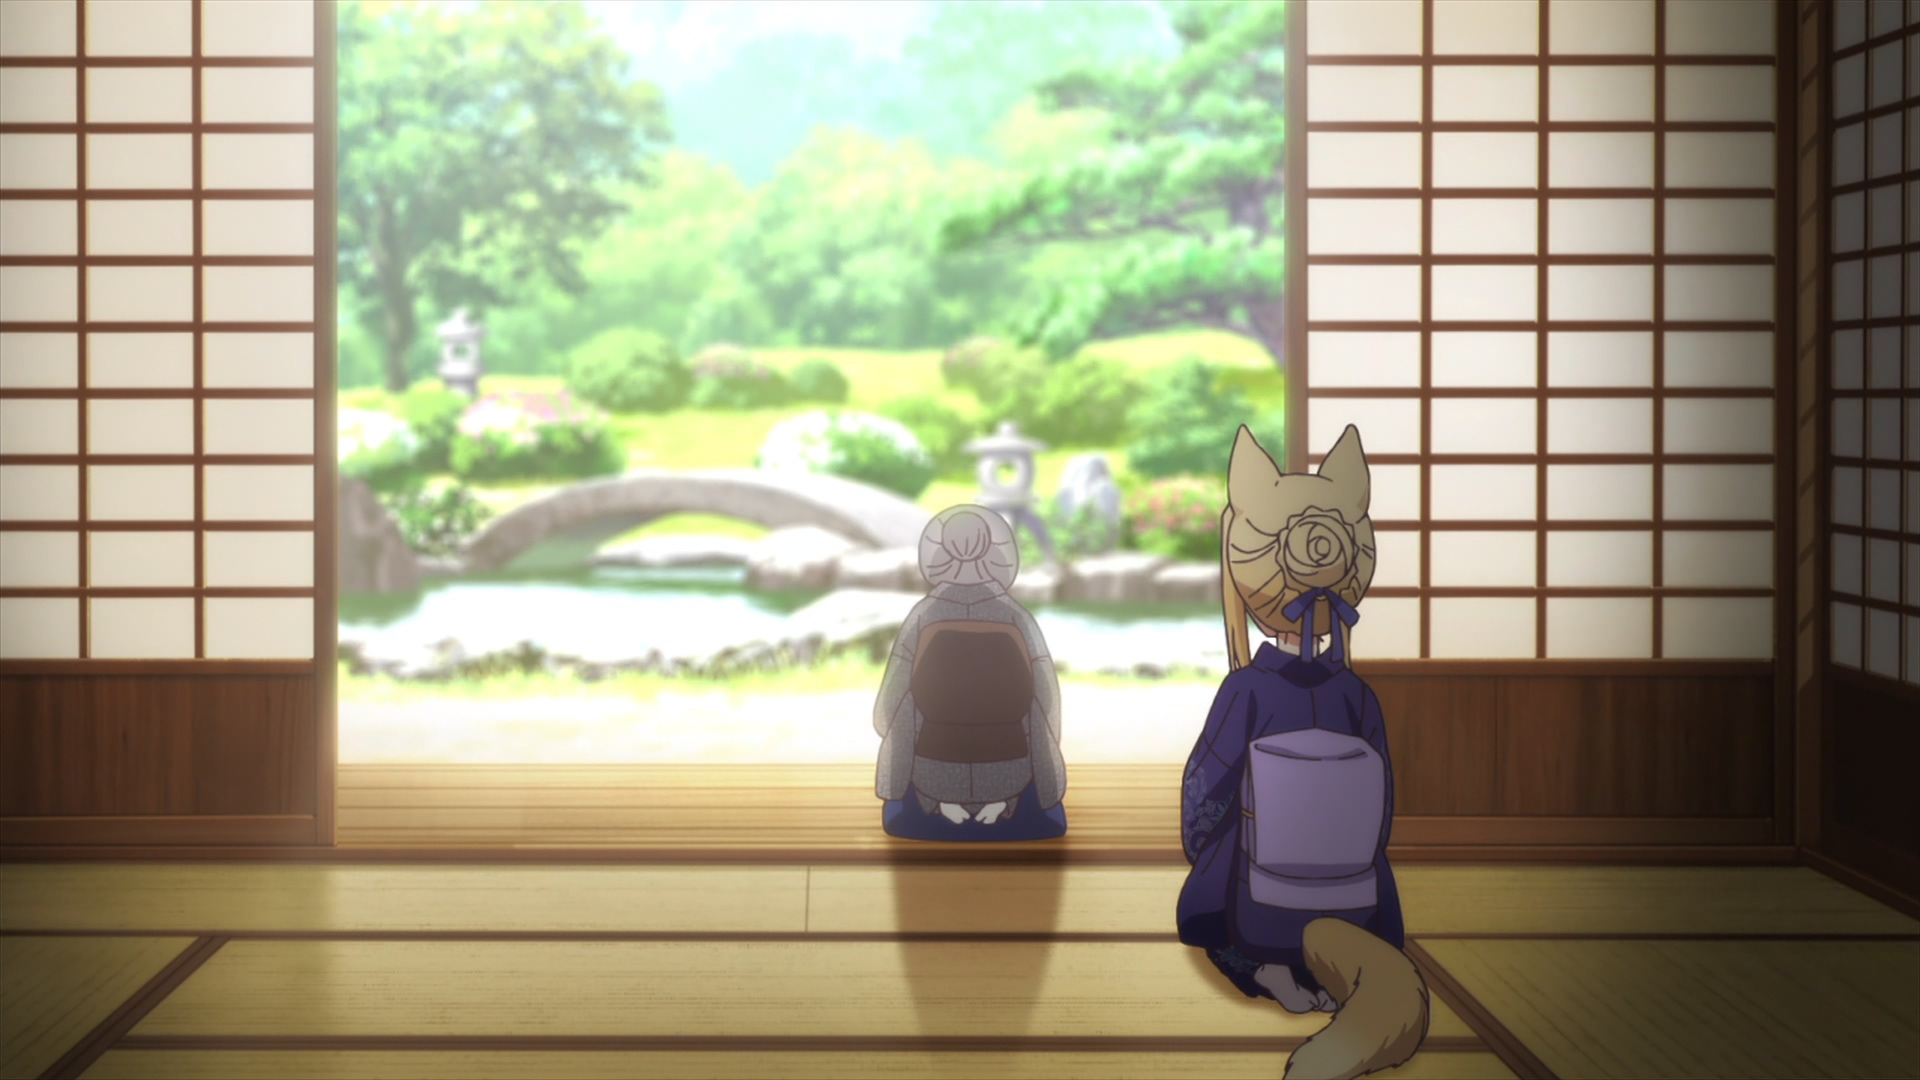其他: (872, 504, 1069, 828)
桐: (1178, 425, 1432, 1080)
